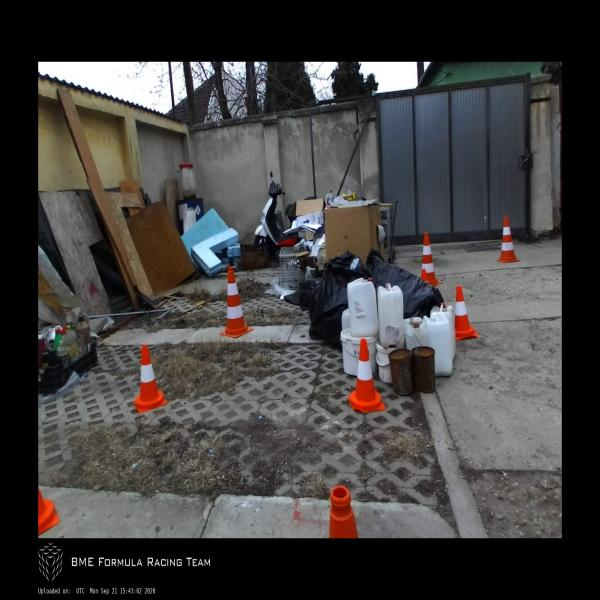large_orange_cone: (219, 266, 253, 338), (420, 233, 442, 288), (496, 215, 520, 263)
orange_cone: (348, 338, 384, 412), (132, 344, 167, 412), (454, 287, 479, 341)
